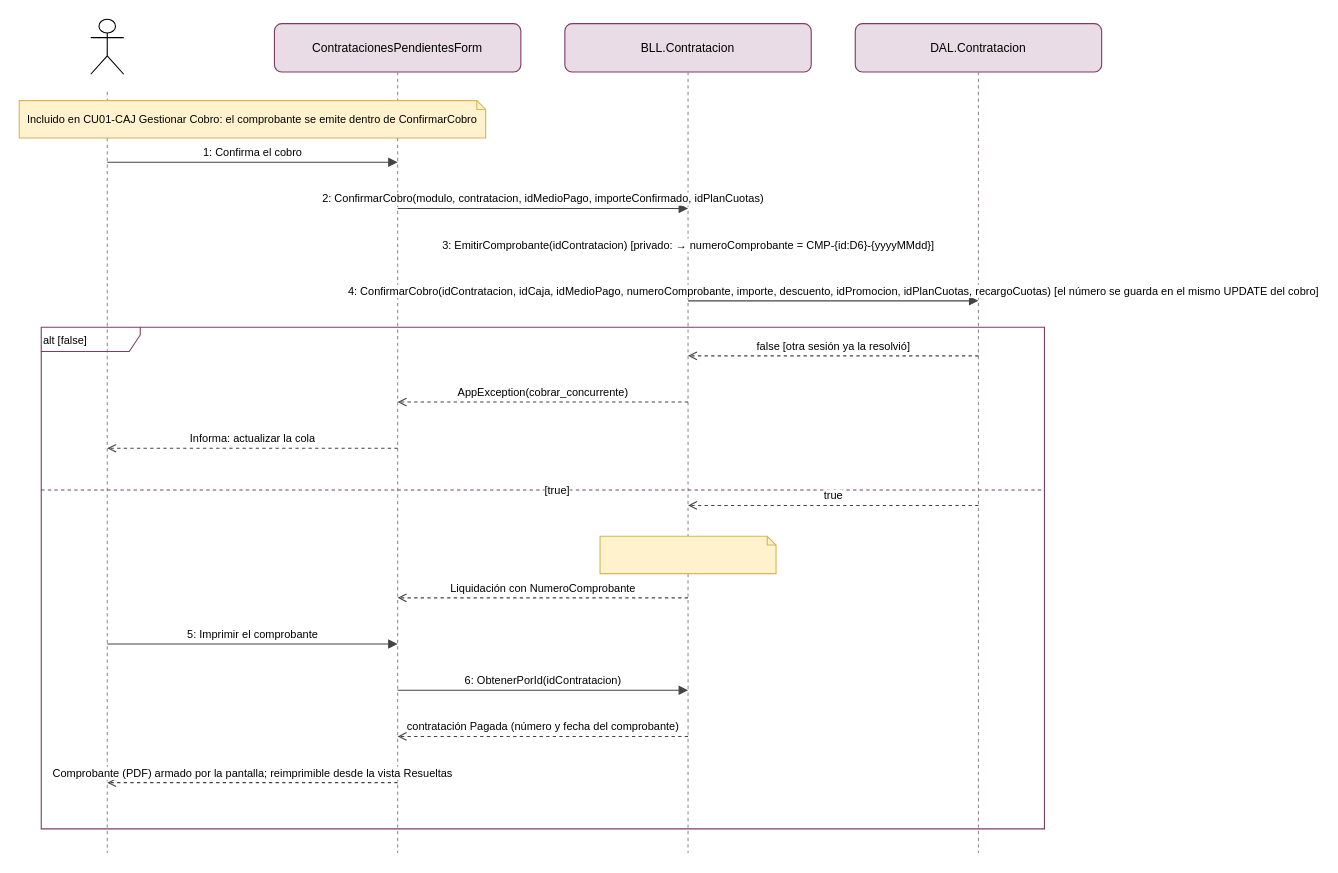
The diagram is 1338 pixels wide and 873 high, and some of its shapes have lost their labels. The shapes that lost their labels are listed below. From the top down, each one's box as (x1, y1, x2, y2) in pixels, then its label:
(90, 18, 124, 74): Caja
(599, 535, 776, 574): Sigue la activación de la suscripción (CU01-CAJ Gestionar Cobro)
